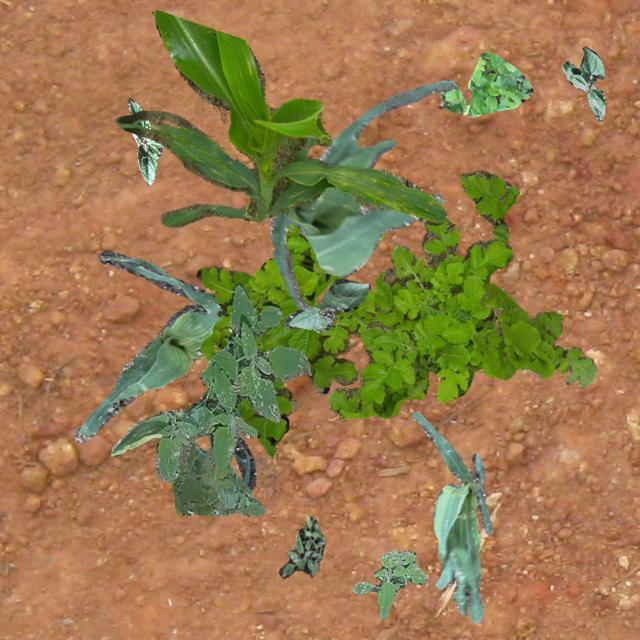crop: (114, 8, 446, 226), (269, 80, 456, 308), (74, 248, 222, 442), (411, 412, 492, 622), (110, 400, 256, 488), (284, 278, 369, 330), (560, 46, 604, 120), (126, 98, 162, 184)
weed: (328, 170, 518, 418), (195, 223, 378, 457), (154, 282, 310, 480), (472, 283, 594, 387), (170, 440, 264, 514), (438, 51, 532, 116), (352, 548, 426, 618), (278, 514, 324, 576)
